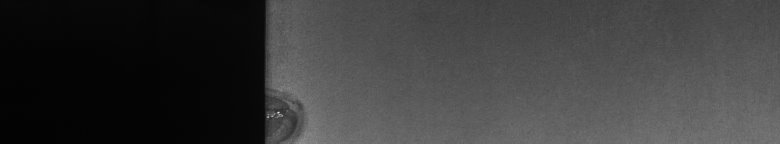hb: (276, 84, 312, 136)
